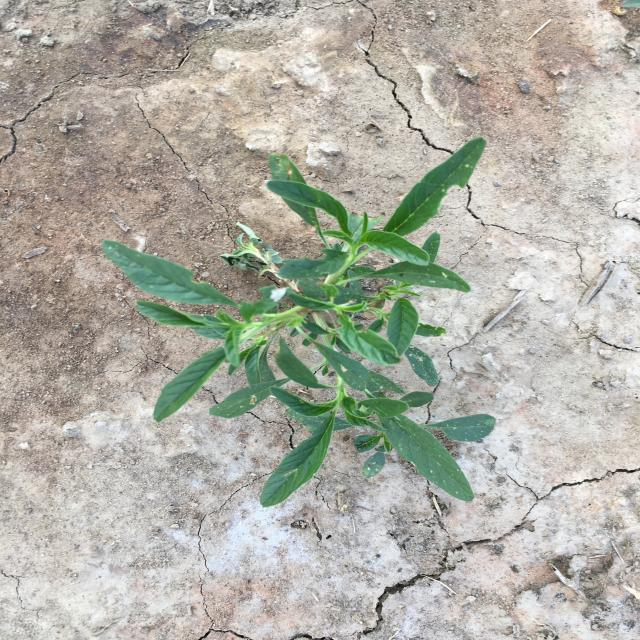Waterhemp: (103, 137, 495, 508)
